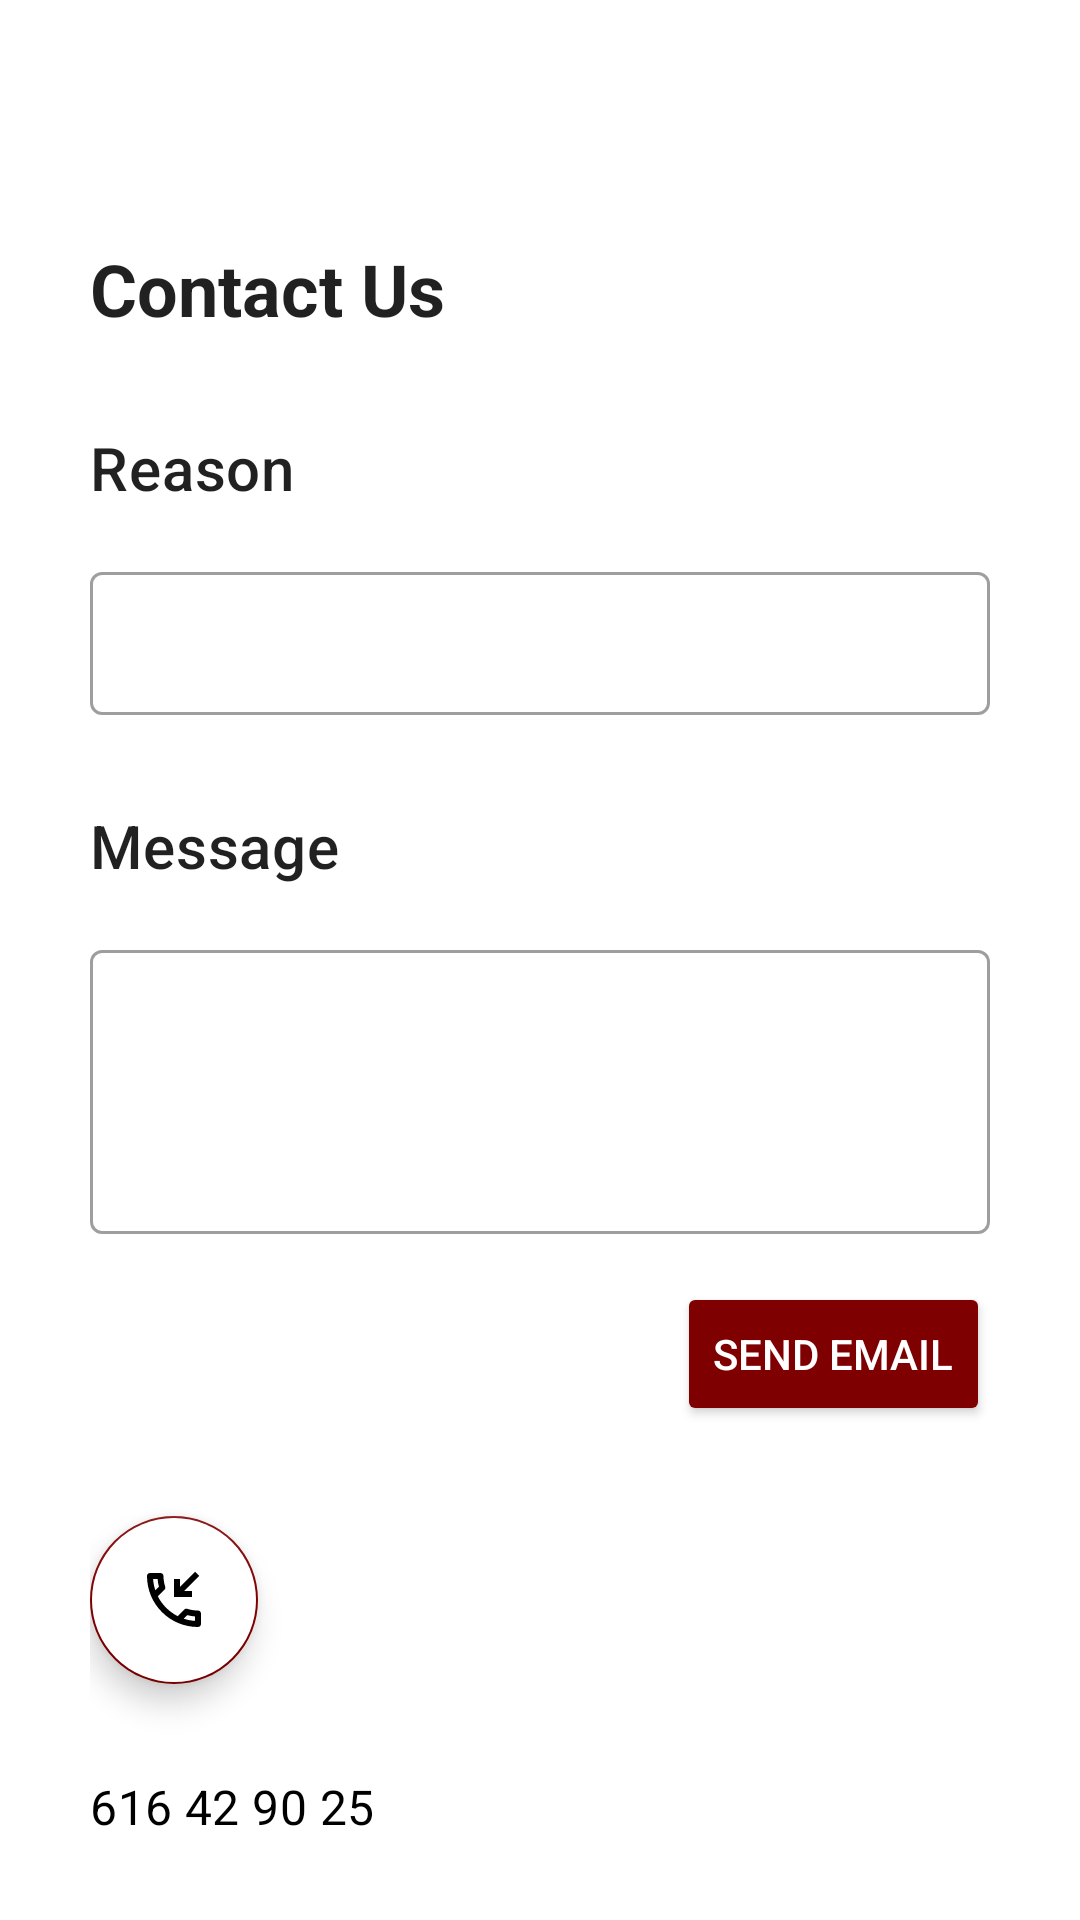

Icon click points for this 1080x1920 phone screenshot, format (x,y):
phone callback: (174,1600)
